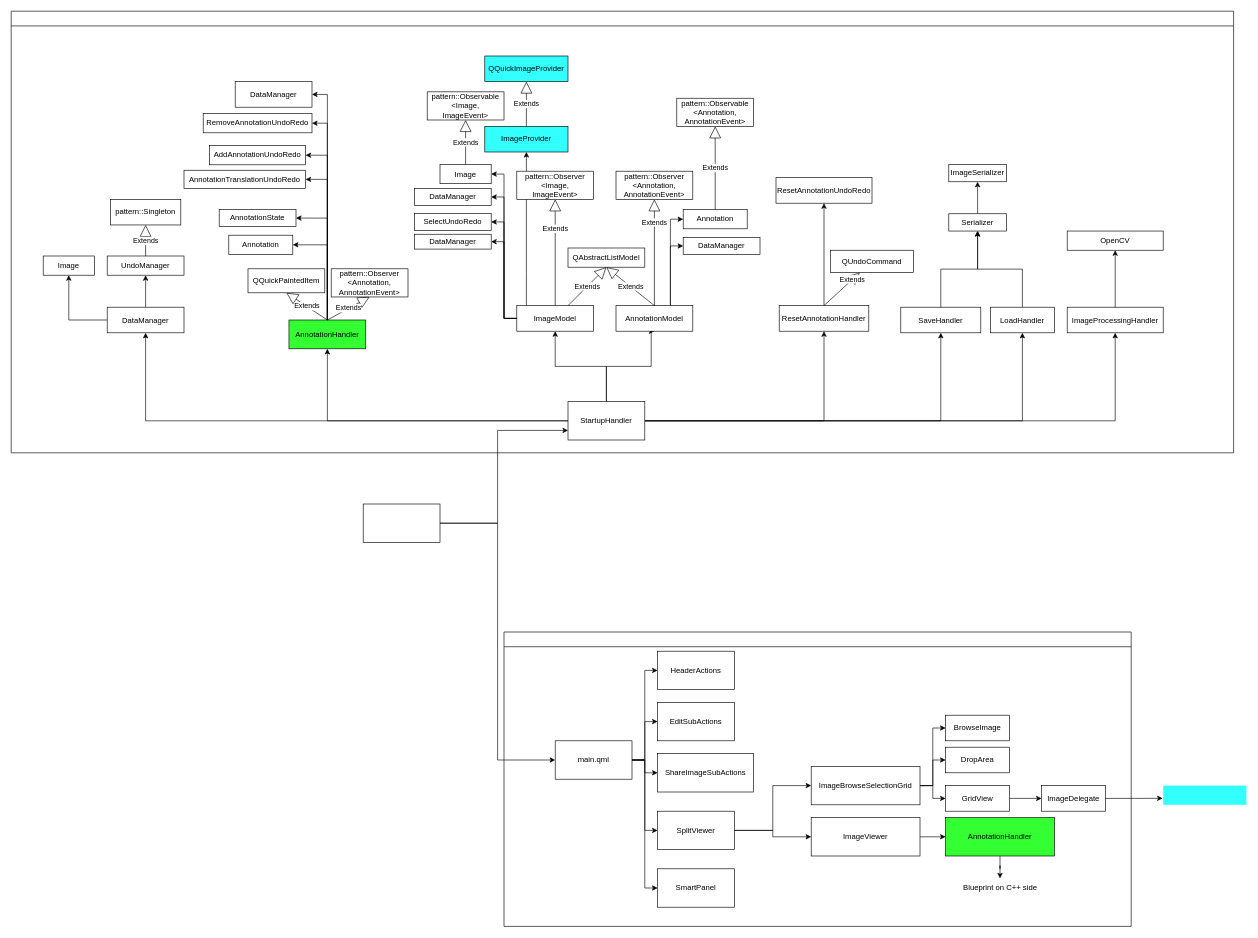
This 1258x938 diagram has some shape labels left out. The centre of each missing label's shape, as x and y in pixels:
Backend: (622,232)
main.cpp: (401,522)
User Interfaces: (817,778)
Uses ImageProvider: (1204,794)
